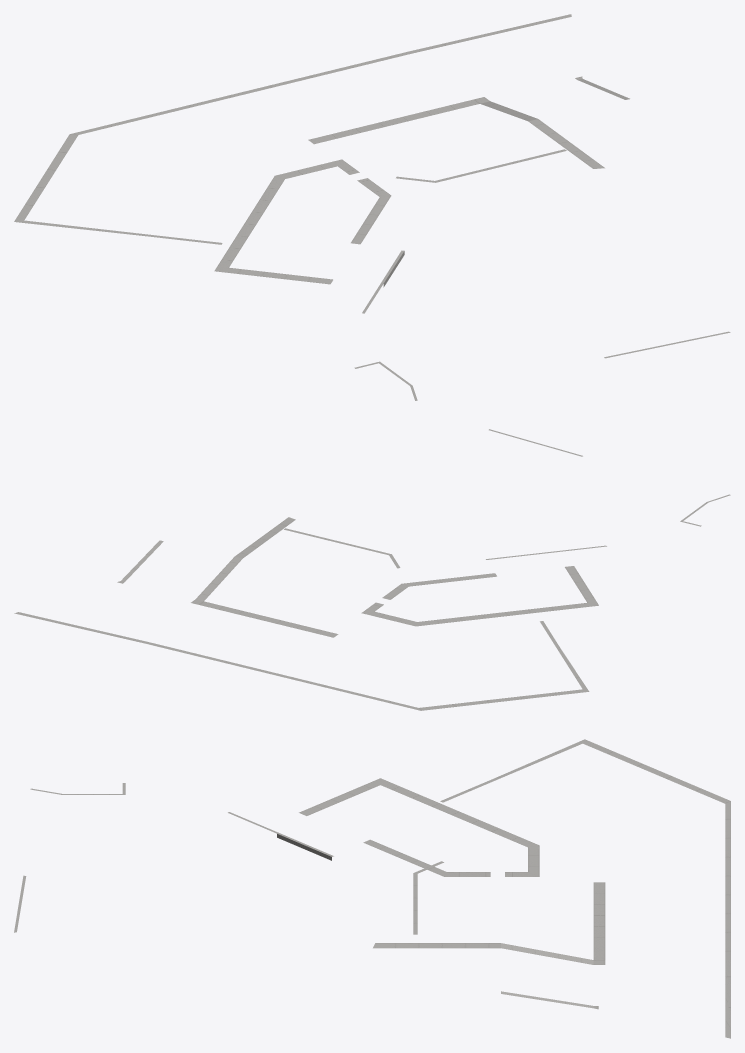
The model's file is kd_stage_135ebf_0_21.glb.
The picture shows the model from 3 angles, top to bottom: view 1: azimuth 30°, elevation 25°; view 2: azimuth 150°, elevation 25°; view 3: azimuth 270°, elevation 25°; orthographic projection. The views are drawn at different scales.
Visible parts, largest first — view 1: kd_stage_135ebf_0_21; view 2: kd_stage_135ebf_0_21; view 3: kd_stage_135ebf_0_21.
Boxes of the visible parts, box(x1,y1,x2,y2) form: kd_stage_135ebf_0_21: box(14, 14, 730, 400); kd_stage_135ebf_0_21: box(14, 429, 730, 710); kd_stage_135ebf_0_21: box(14, 739, 730, 1038).
Size of the model in its own units: 24.32 by 0.932 by 24.79.
Materials: 1 (1 with a texture image).
